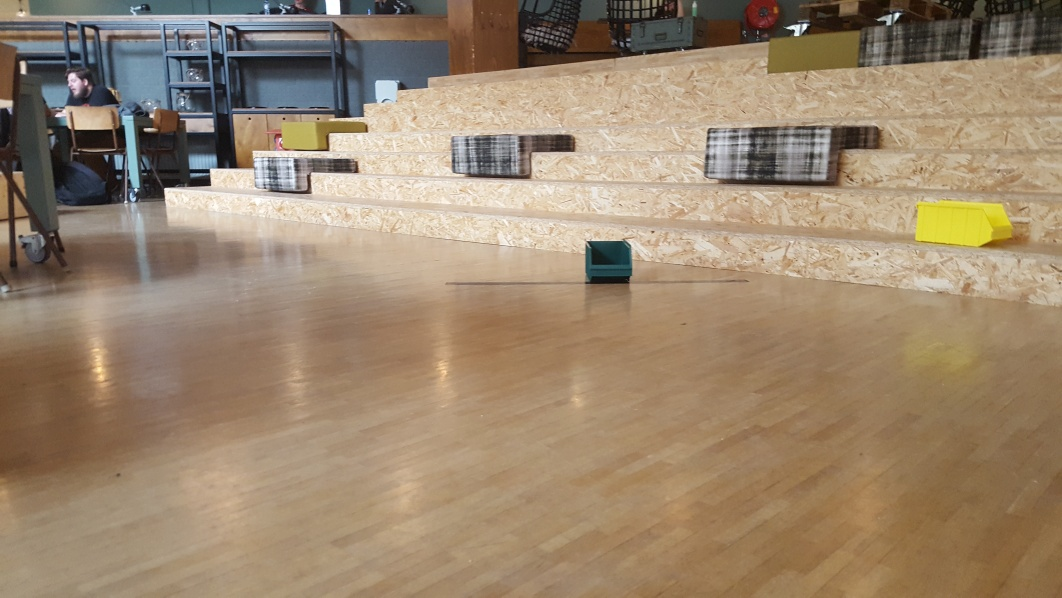tray: (908, 198, 1017, 247), (579, 239, 637, 281)
